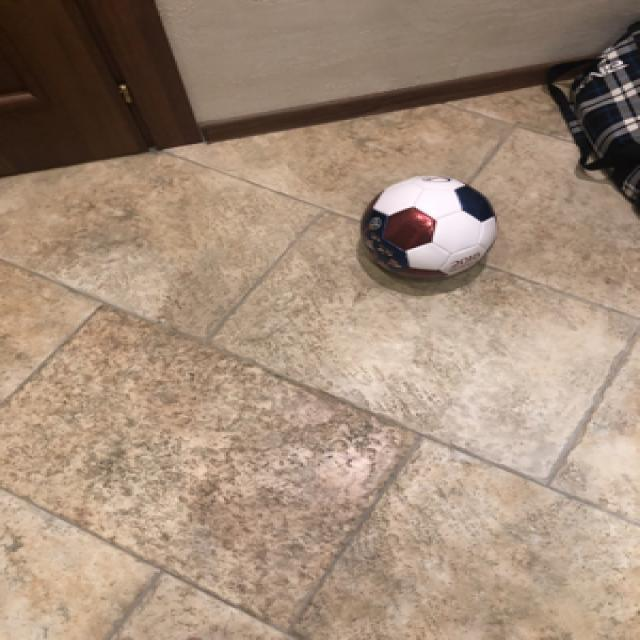soccer_ball: (356, 171, 499, 280)
